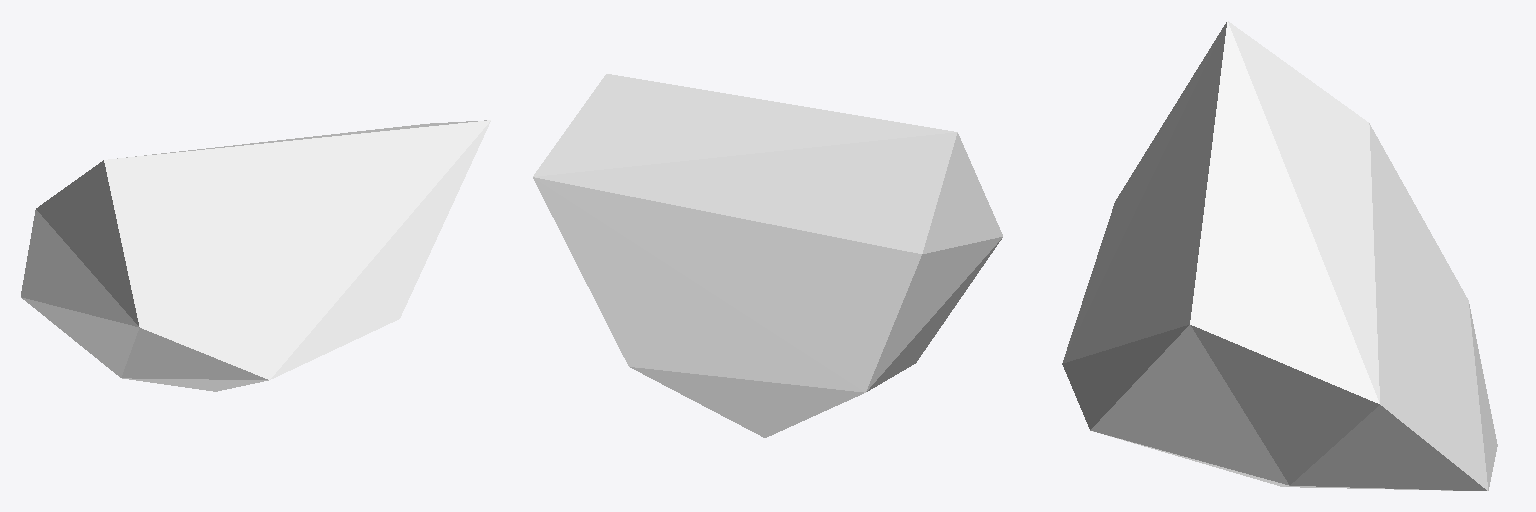
The robot description file, URDF, robot "solo_RHleg_rom":
<robot name="solo_RHleg_rom">
  <link name="base_link">
    <visual>
      <origin xyz="0 0 0" rpy="0 0 0" />
      <geometry>
        <mesh filename="package://solo-rbprm/meshes/HRleg_rom_reduced.stl"/>
      </geometry>
      <material name="white">
        <color rgba="1 1 1 1"/>
      </material>
    </visual>
    <collision>
      <origin xyz="0 0 0" rpy="0 0 0" />
      <geometry>
        <mesh filename="package://solo-rbprm/meshes/HRleg_rom_reduced.stl"/>
      </geometry>
    </collision>
  </link>
</robot>

--- Facts derived from the render (not from the file) ---
Views: 3 orthographic renders of the robot side by side, from view 1: azimuth 30°, elevation 25°; view 2: azimuth 150°, elevation 25°; view 3: azimuth 270°, elevation 25°.
Robot: solo_RHleg_rom — 1 links, 0 joints (none); root link base_link; default pose: all joints at 0.
Links seen in each view (by area): view 1: base_link; view 2: base_link; view 3: base_link.
Boxes of the visible links, bbox=[...] form: base_link: bbox=[21, 120, 490, 391]; base_link: bbox=[533, 74, 1002, 437]; base_link: bbox=[1062, 21, 1497, 490].
Bounding box of the posed robot: 0.4258 × 0.299 × 0.287 m (x, y, z).
1 mesh visuals loaded from 1 distinct referenced files (1 binary STL).